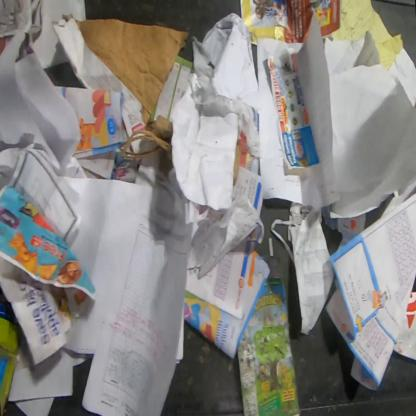cardboard: (50, 12, 189, 126), (235, 255, 303, 415), (0, 289, 22, 415), (324, 212, 367, 252), (392, 290, 415, 361)
